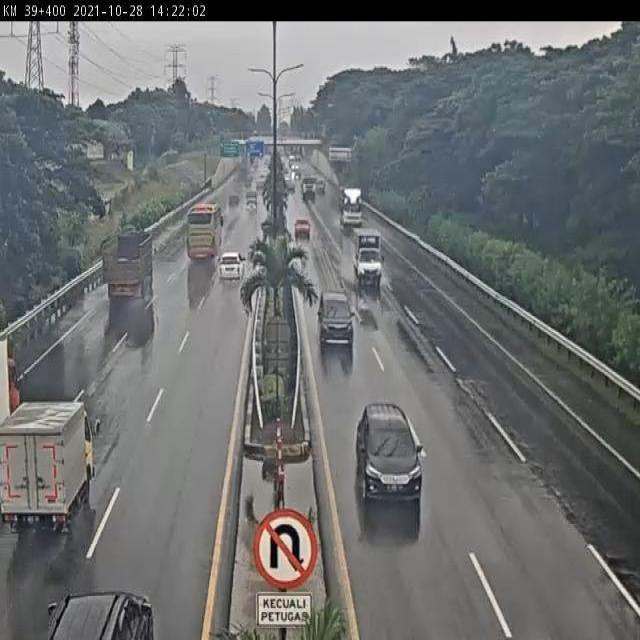big bus: (187, 202, 223, 262)
car: (352, 400, 425, 503), (314, 288, 356, 348), (215, 250, 245, 282), (293, 214, 311, 238)
small truck: (0, 399, 99, 533)
truck-l-: (101, 232, 155, 304), (337, 184, 366, 227)
truck-s-: (353, 228, 384, 288)
